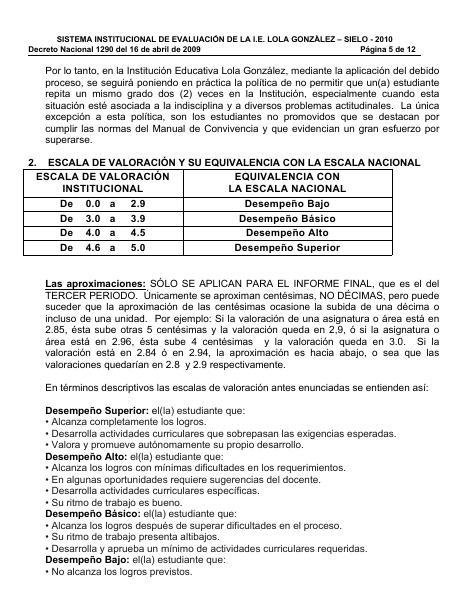table: (20, 168, 397, 260)
text: (43, 404, 400, 578), (41, 275, 448, 371), (41, 62, 444, 147), (23, 30, 422, 53), (43, 379, 432, 397), (25, 157, 424, 167)
